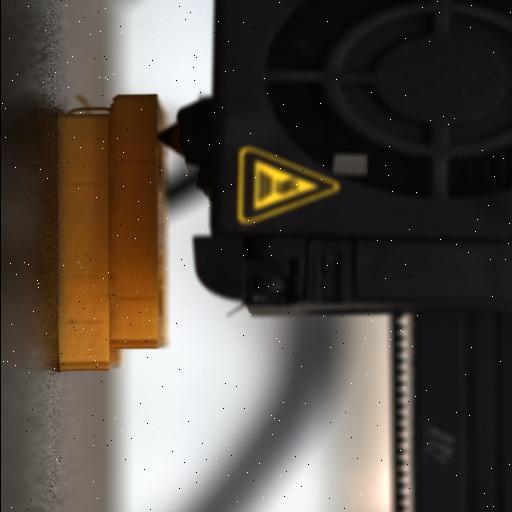layer_shift: (94, 93, 120, 371)
